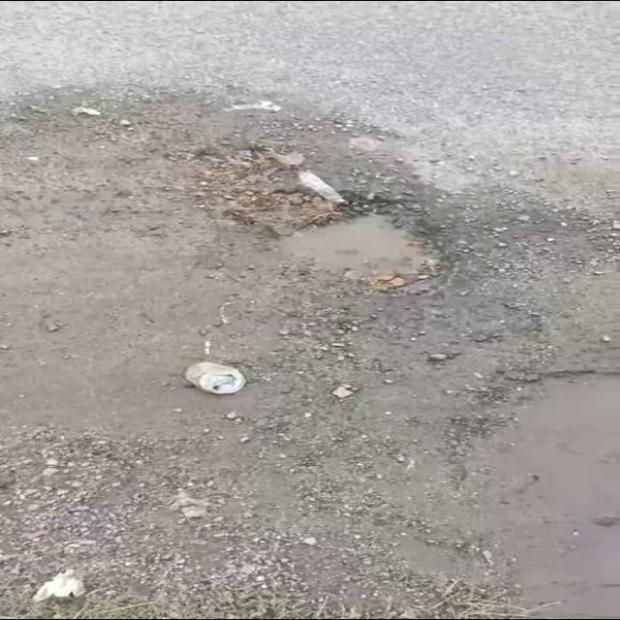lubang: (167, 141, 441, 290), (460, 368, 619, 616)
